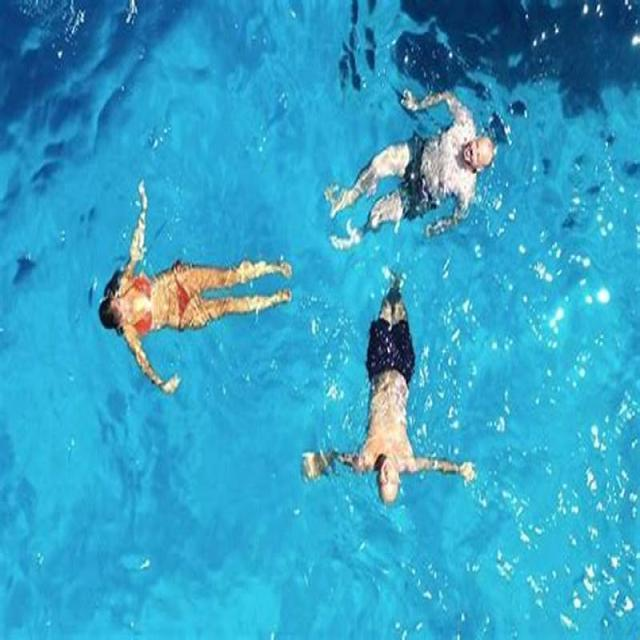Swimming: (326, 276, 452, 504), (334, 97, 492, 241), (94, 266, 302, 338)
